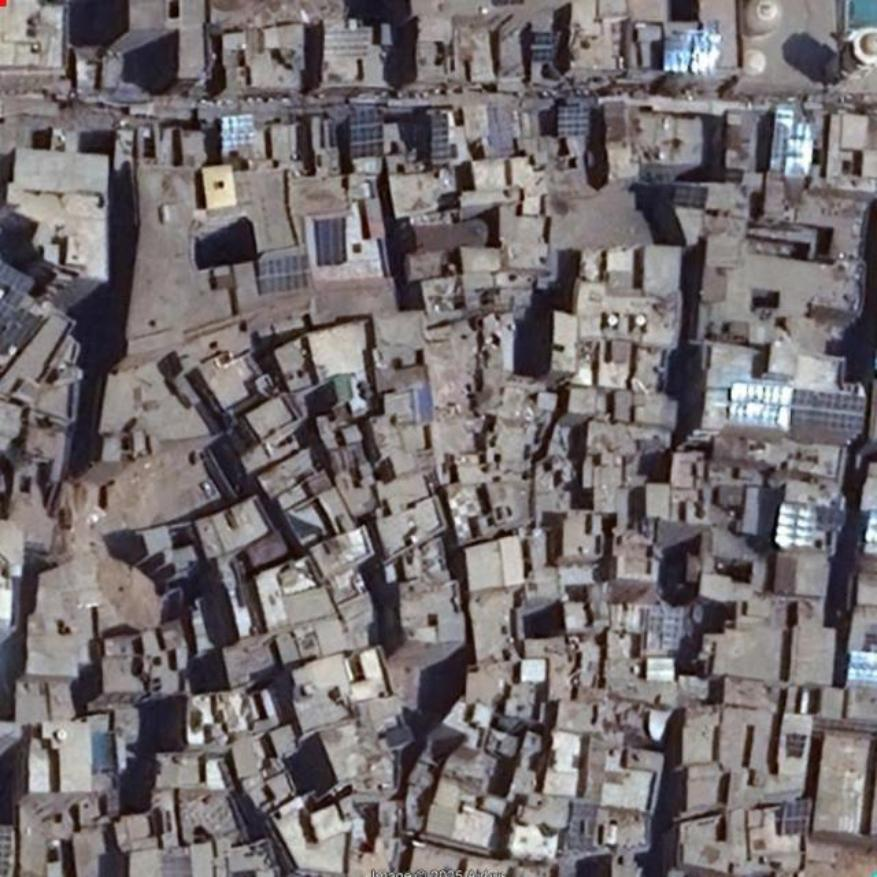Solarpanel: (792, 390, 869, 432), (0, 261, 35, 330), (260, 256, 309, 293), (348, 110, 382, 157), (559, 107, 590, 137), (433, 113, 451, 163), (783, 803, 811, 834)
